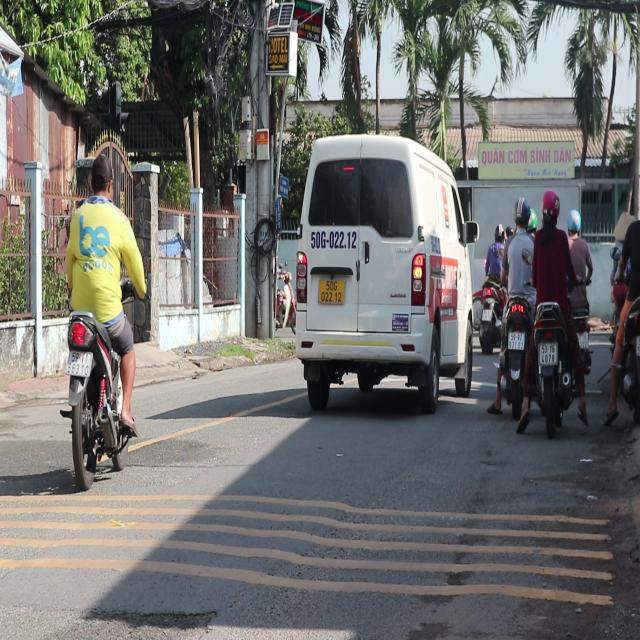helmet: (540, 187, 560, 225), (512, 195, 530, 229)
licenseplate: (58, 150, 144, 482), (528, 185, 588, 432), (493, 191, 536, 418)
motorcyclist: (88, 154, 114, 202)
nohelmet: (66, 351, 92, 376), (538, 342, 557, 363), (508, 331, 524, 350)
